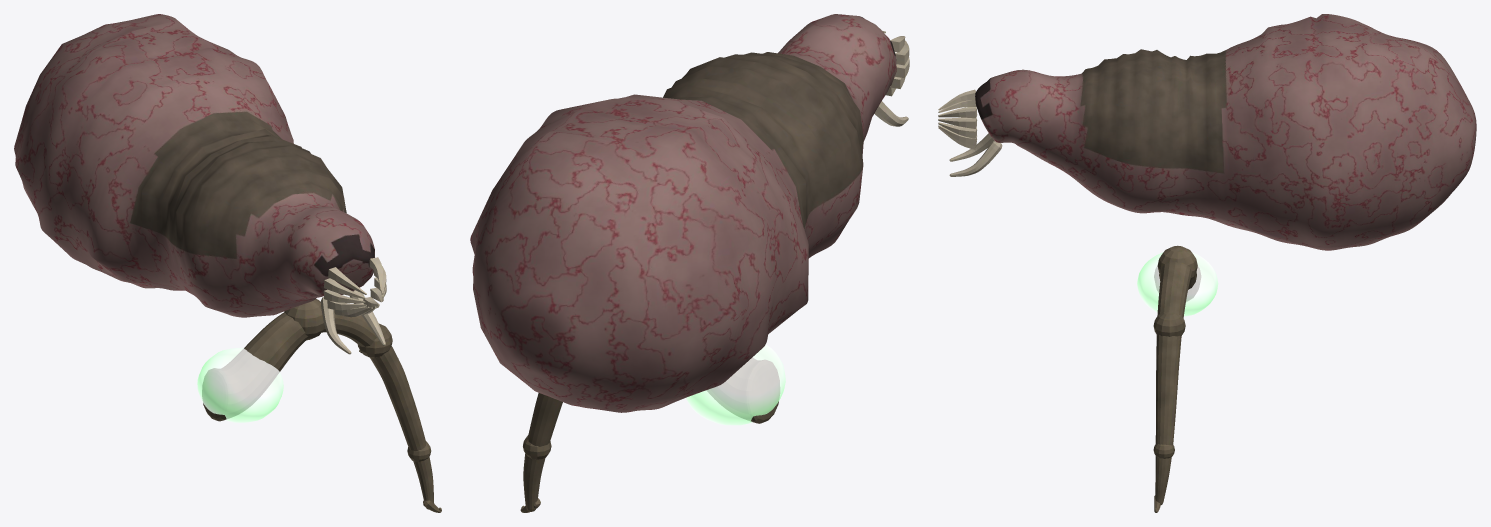
Rendered from brood.glb.
3 renders of one model, left to right at view 1: azimuth 30°, elevation 25°; view 2: azimuth 150°, elevation 25°; view 3: azimuth 270°, elevation 25°, orthographic. The views are drawn at different scales.
Parts seen in each view (by area): view 1: brood_body, brood_leg, brood_sac, brood_fangs; view 2: brood_body, brood_leg, brood_sac, brood_fangs; view 3: brood_body, brood_leg, brood_fangs, brood_sac.
Part boxes in pixels (<box>): brood_body: <box>14,14,374,317</box>; brood_leg: <box>202,299,441,512</box>; brood_sac: <box>197,348,283,422</box>; brood_fangs: <box>320,257,386,354</box>; brood_body: <box>470,14,896,412</box>; brood_leg: <box>520,358,779,512</box>; brood_sac: <box>686,344,785,425</box>; brood_fangs: <box>874,30,909,126</box>; brood_body: <box>975,14,1476,250</box>; brood_leg: <box>1153,245,1200,512</box>; brood_fangs: <box>938,89,1002,176</box>; brood_sac: <box>1137,252,1218,316</box>.
Bounding box in the file's own units: 2.33 × 3.26 × 4.01.
Materials: 2 (1 with a texture image).
